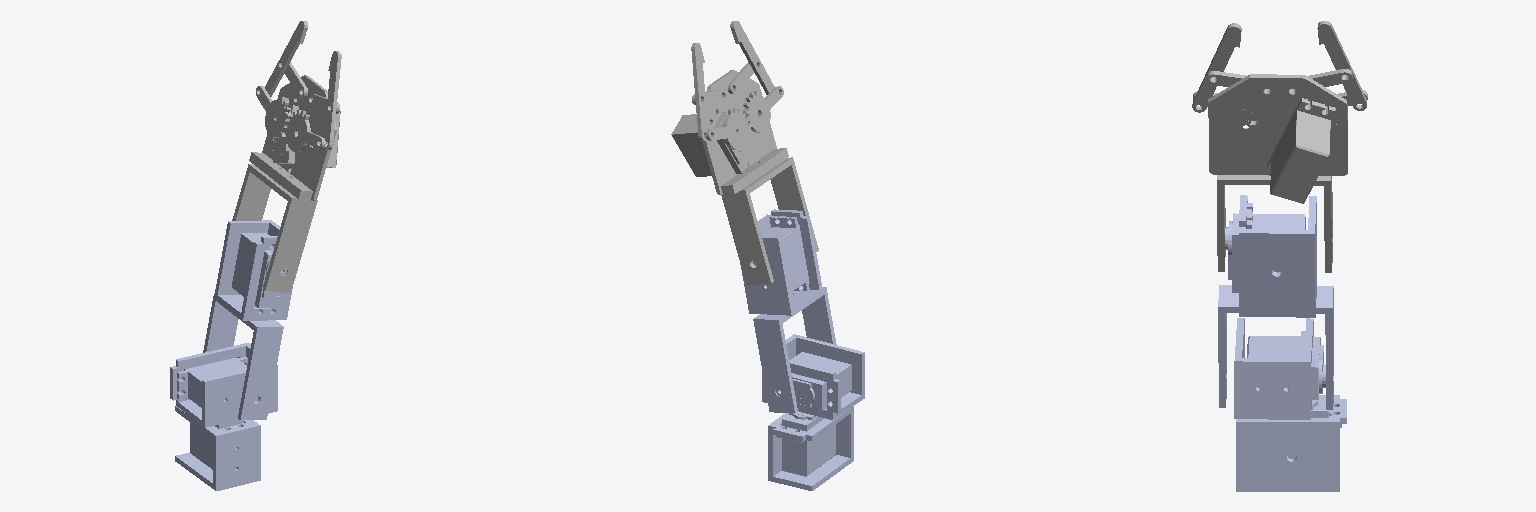
URDF robot description (smallbahey):
<?xml version="1.0" encoding="utf-8"?>
<!-- This URDF was automatically created by SolidWorks to URDF Exporter! Originally created by [author] ([email redacted]) 
     Commit Version: 1.6.0-4-g7f85cfe  Build Version: 1.6.7995.38578
     For more information, please see http://wiki.ros.org/sw_urdf_exporter -->
<robot
  name="smallbahey">
  <link
    name="base_link">
    <inertial>
      <origin
        xyz="0.0016417400675867 0.00709786748073904 0.0234510670404415"
        rpy="0 0 0" />
      <mass
        value="0.0582483511837194" />
      <inertia
        ixx="2.36603319262741E-05"
        ixy="-6.99394102833853E-07"
        ixz="-2.60821907816732E-07"
        iyy="1.4711059941922E-05"
        iyz="3.89466380735091E-07"
        izz="1.76247341674167E-05" />
    </inertial>
    <visual>
      <origin
        xyz="0 0 0"
        rpy="0 0 0" />
      <geometry>
        <mesh
          filename="package://smallbahey/meshes/base_link.STL" />
      </geometry>
      <material
        name="">
        <color
          rgba="0.792156862745098 0.819607843137255 0.933333333333333 1" />
      </material>
    </visual>
    <collision>
      <origin
        xyz="0 0 0"
        rpy="0 0 0" />
      <geometry>
        <mesh
          filename="package://smallbahey/meshes/base_link.STL" />
      </geometry>
    </collision>
  </link>
  <link
    name="link_1">
    <inertial>
      <origin
        xyz="0.0027789 0.0023758 0.015358"
        rpy="0 0 0" />
      <mass
        value="0.058248" />
      <inertia
        ixx="1.4692E-05"
        ixy="-3.0907E-07"
        ixz="-6.9198E-07"
        iyy="1.7644E-05"
        iyz="2.7989E-07"
        izz="2.366E-05" />
    </inertial>
    <visual>
      <origin
        xyz="0 0 0"
        rpy="0 0 0" />
      <geometry>
        <mesh
          filename="package://smallbahey/meshes/link_1.STL" />
      </geometry>
      <material
        name="">
        <color
          rgba="0.79216 0.81961 0.93333 1" />
      </material>
    </visual>
    <collision>
      <origin
        xyz="0 0 0"
        rpy="0 0 0" />
      <geometry>
        <mesh
          filename="package://smallbahey/meshes/link_1.STL" />
      </geometry>
    </collision>
  </link>
  <joint
    name="joint_1"
    type="revolute">
    <origin
      xyz="0 0 0.05"
      rpy="0 0 0" />
    <parent
      link="base_link" />
    <child
      link="link_1" />
    <axis
      xyz="0 0 1" />
    <limit
      lower="0"
      upper="6.3"
      effort="0"
      velocity="0" />
  </joint>
  <link
    name="link_2">
    <inertial>
      <origin
        xyz="0.0066908 0.070437 0.00066913"
        rpy="0 0 0" />
      <mass
        value="0.074178" />
      <inertia
        ixx="4.248E-05"
        ixy="-1.5681E-06"
        ixz="-2.7354E-07"
        iyy="2.6496E-05"
        iyz="-7.1536E-08"
        izz="2.6095E-05" />
    </inertial>
    <visual>
      <origin
        xyz="0 0 0"
        rpy="0 0 0" />
      <geometry>
        <mesh
          filename="package://smallbahey/meshes/link_2.STL" />
      </geometry>
      <material
        name="">
        <color
          rgba="0.79216 0.81961 0.93333 1" />
      </material>
    </visual>
    <collision>
      <origin
        xyz="0 0 0"
        rpy="0 0 0" />
      <geometry>
        <mesh
          filename="package://smallbahey/meshes/link_2.STL" />
      </geometry>
    </collision>
  </link>
  <joint
    name="joint_2"
    type="revolute">
    <origin
      xyz="0.009807 -0.00026883 0.017"
      rpy="1.5708 -0.33473 3.1142" />
    <parent
      link="link_1" />
    <child
      link="link_2" />
    <axis
      xyz="0 0 1" />
    <limit
      lower="-1.57"
      upper="1.57"
      effort="0"
      velocity="0" />
  </joint>
  <link
    name="link_3">
    <inertial>
      <origin
        xyz="-0.028985 0.069751 0.0091061"
        rpy="0 0 0" />
      <mass
        value="0.078617" />
      <inertia
        ixx="4.3279E-05"
        ixy="5.0343E-06"
        ixz="2.9682E-07"
        iyy="2.9707E-05"
        iyz="-1.2036E-06"
        izz="2.8386E-05" />
    </inertial>
    <visual>
      <origin
        xyz="0 0 0"
        rpy="0 0 0" />
      <geometry>
        <mesh
          filename="package://smallbahey/meshes/link_3.STL" />
      </geometry>
      <material
        name="">
        <color
          rgba="0.75294 0.75294 0.75294 1" />
      </material>
    </visual>
    <collision>
      <origin
        xyz="0 0 0"
        rpy="0 0 0" />
      <geometry>
        <mesh
          filename="package://smallbahey/meshes/link_3.STL" />
      </geometry>
    </collision>
  </link>
  <joint
    name="joint_3"
    type="revolute">
    <origin
      xyz="0.010803 0.094145 0"
      rpy="0 0 -0.30951" />
    <parent
      link="link_2" />
    <child
      link="link_3" />
    <axis
      xyz="0 0 1" />
    <limit
      lower="-1.57"
      upper="1.57"
      effort="0"
      velocity="0" />
  </joint>
</robot>

--- Facts derived from the render (not from the file) ---
Views: 3 orthographic renders of the robot side by side, from view 1: azimuth 30°, elevation 25°; view 2: azimuth 150°, elevation 25°; view 3: azimuth 270°, elevation 25°.
Model smallbahey with 4 links and 3 joints (3 revolute), rooted at base_link, posed all joints at 0.
Links seen in each view (by area): view 1: link_3, link_2, link_1, base_link; view 2: link_3, link_2, base_link, link_1; view 3: link_3, link_2, base_link, link_1.
Link boxes in pixels (x1=…): link_3: x1=232, y1=21, x2=341, y2=292; link_2: x1=203, y1=220, x2=292, y2=420; link_1: x1=170, y1=343, x2=277, y2=427; base_link: x1=175, y1=406, x2=260, y2=490; link_3: x1=671, y1=21, x2=818, y2=284; link_2: x1=740, y1=209, x2=836, y2=413; base_link: x1=768, y1=406, x2=853, y2=490; link_1: x1=762, y1=334, x2=864, y2=419; link_3: x1=1192, y1=21, x2=1367, y2=272; link_2: x1=1218, y1=195, x2=1333, y2=409; base_link: x1=1236, y1=395, x2=1346, y2=491; link_1: x1=1234, y1=318, x2=1325, y2=419.
Bounding box of the posed robot: 0.1298 × 0.0965 × 0.3148 m (x, y, z).
Meshes: 4 distinct files referenced, 4 mesh visuals loaded (4 binary STL).
